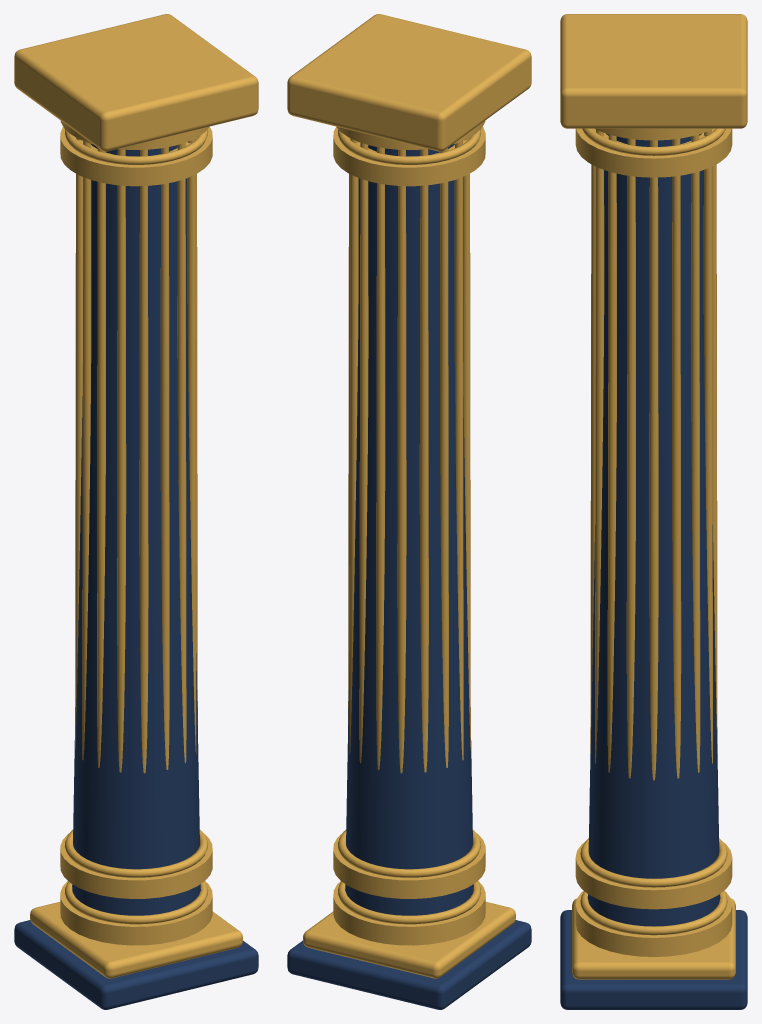
Rendered from blues-column.glb.
The picture shows the model from 3 angles, left to right: view 1: azimuth 30°, elevation 25°; view 2: azimuth 150°, elevation 25°; view 3: azimuth 270°, elevation 25°; orthographic projection. The views are drawn at different scales.
Bounding box in the file's own units: 1.6 × 8.69 × 1.6.
